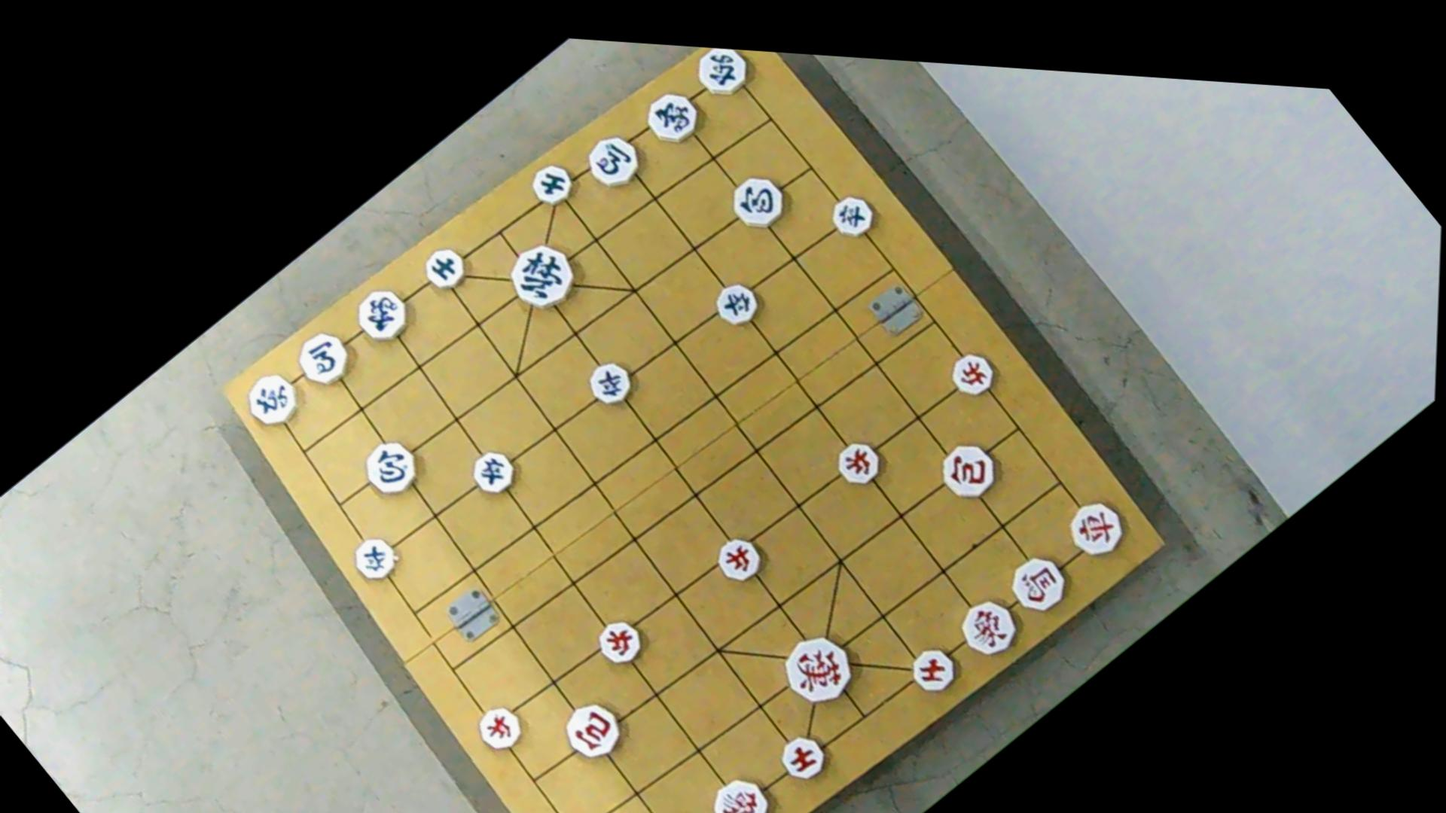cha_green: (235, 361, 308, 436), (687, 46, 758, 105)
cha_red: (1060, 491, 1133, 566)
jol_green: (581, 352, 640, 413), (463, 440, 522, 501), (820, 185, 878, 245), (346, 528, 404, 587), (706, 276, 764, 334)
jol_red: (468, 695, 531, 760), (708, 528, 767, 589), (828, 433, 887, 494), (589, 611, 648, 671), (941, 343, 1000, 403)
ma_green: (287, 322, 358, 394), (577, 123, 647, 195)
ma_red: (998, 544, 1075, 623), (638, 805, 713, 813)
po_green: (356, 430, 427, 502), (722, 166, 792, 237)
po_red: (932, 431, 1006, 509), (554, 693, 629, 768)
sa_green: (522, 152, 581, 213), (416, 239, 473, 297)
sa_red: (769, 722, 834, 790), (902, 637, 966, 702)
sang_green: (342, 274, 419, 352), (639, 81, 708, 152)
sang_red: (950, 589, 1025, 667), (700, 763, 779, 813)
wang_green: (499, 230, 586, 318)
wang_red: (770, 621, 862, 715)
